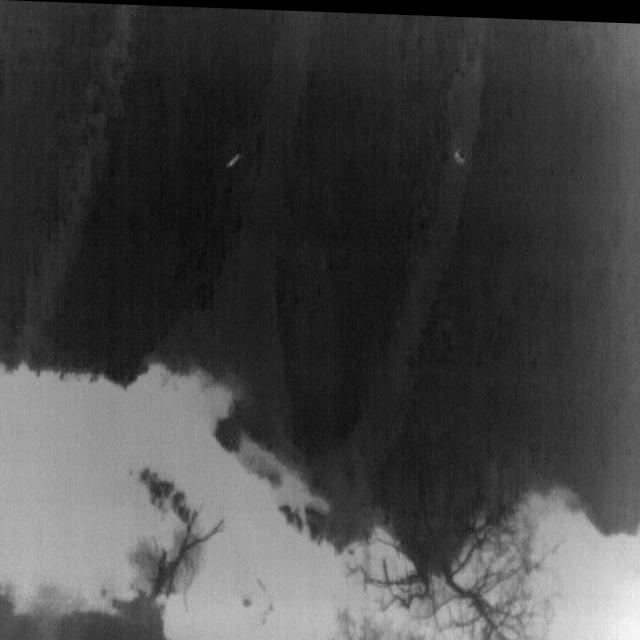deer: (453, 146, 467, 162), (226, 152, 240, 167)
